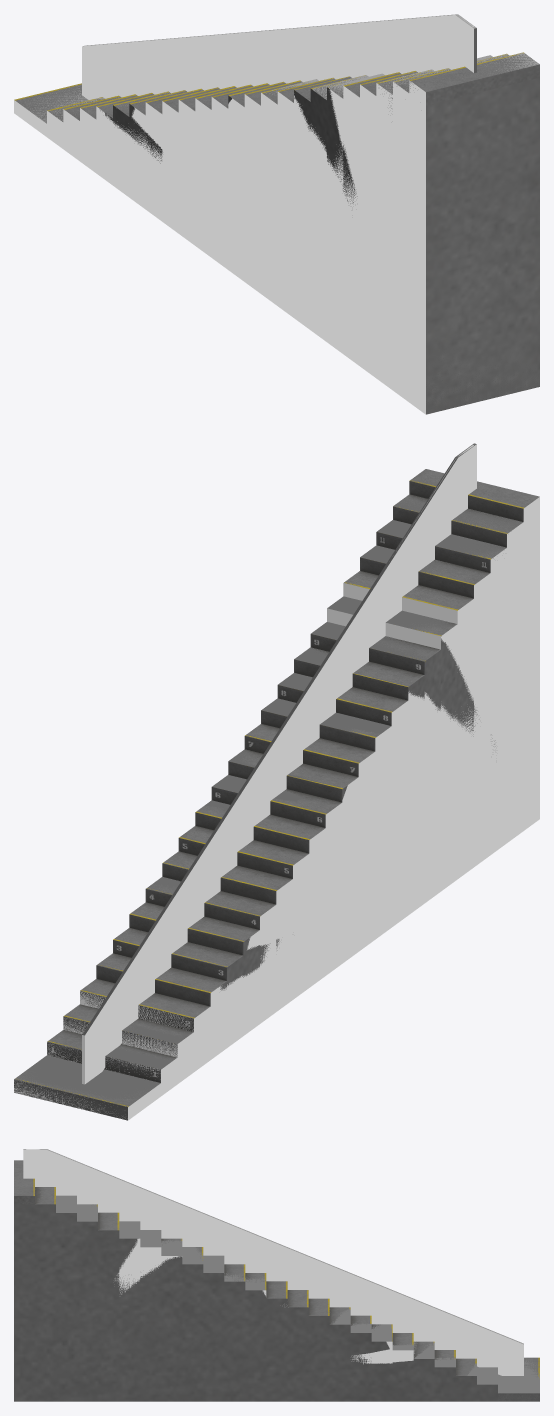
The model's file is SM_Stairs.fbx.
3 views of the same model, one above another, from view 1: azimuth 30°, elevation 25°; view 2: azimuth 150°, elevation 25°; view 3: azimuth 270°, elevation 25° (orthographic). The views are drawn at different scales.
Visible parts, largest first — view 1: SM_Stairs_ConvexHulls, SM_Stairs_LOD0; view 2: SM_Stairs_ConvexHulls, SM_Stairs_LOD0; view 3: SM_Stairs_LOD0, SM_Stairs_ConvexHulls.
Part boxes in pixels (x1,y1,x2,y2): SM_Stairs_ConvexHulls: [14, 14, 539, 414]; SM_Stairs_LOD0: [14, 14, 539, 414]; SM_Stairs_ConvexHulls: [14, 443, 539, 1120]; SM_Stairs_LOD0: [14, 445, 539, 1120]; SM_Stairs_LOD0: [14, 1149, 539, 1401]; SM_Stairs_ConvexHulls: [23, 1149, 539, 1393].
Size of the model in its own units: 200 by 1250 by 615.
2 materials, 1 textured.
